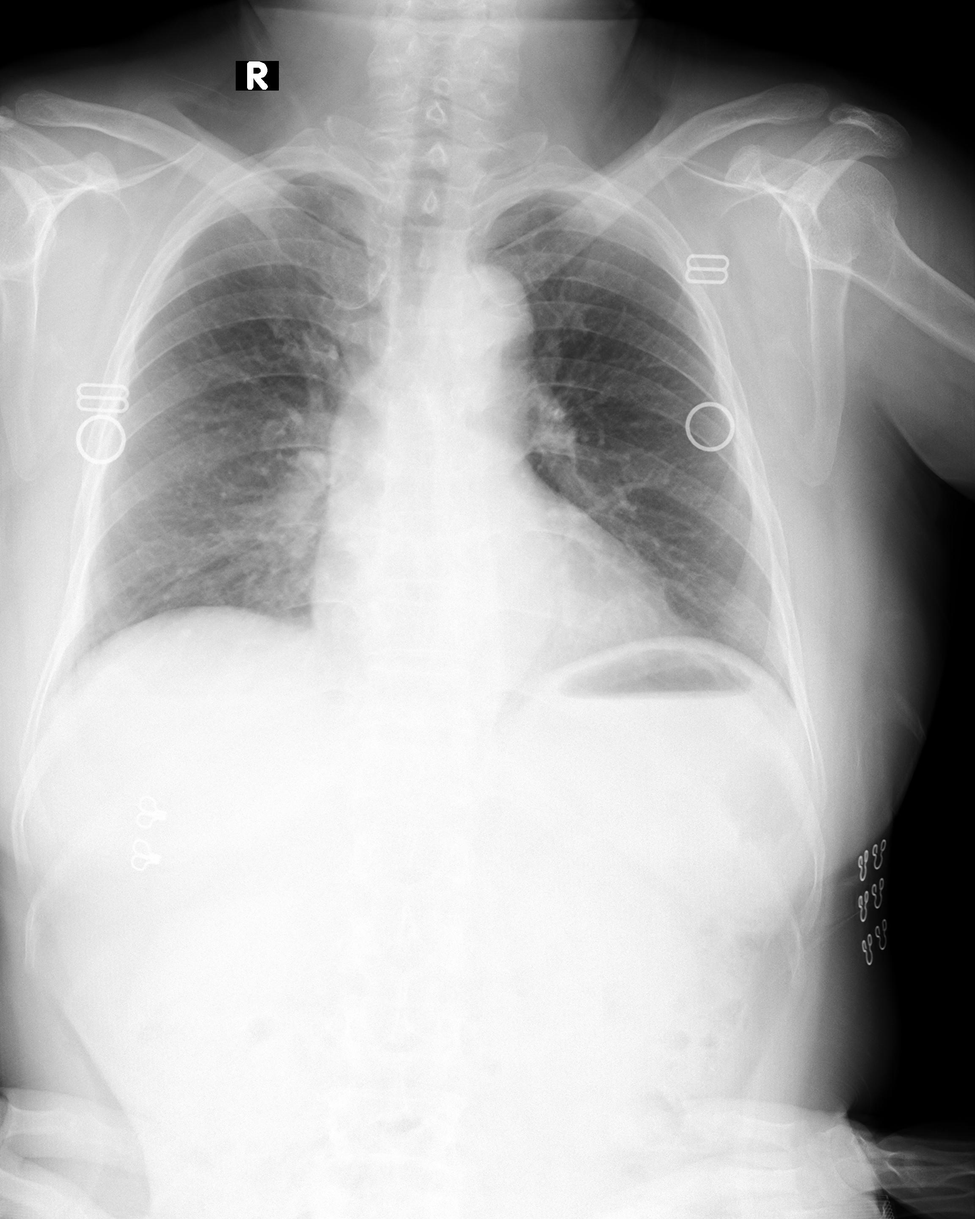Aortic enlargement: (430, 268, 531, 350)
Cardiomegaly: (306, 547, 677, 632)
